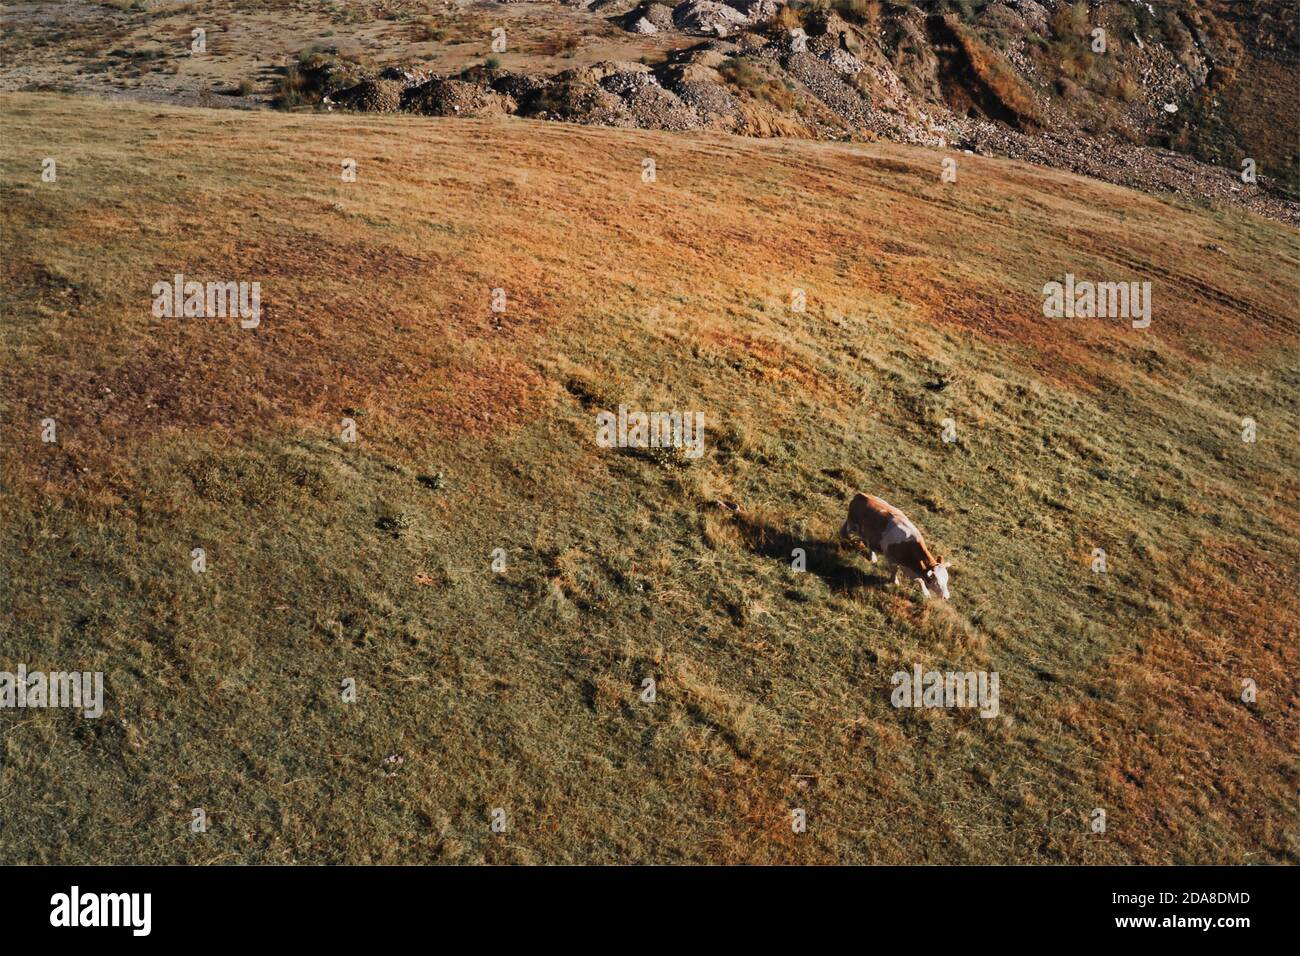cattle: (833, 483, 960, 617)
